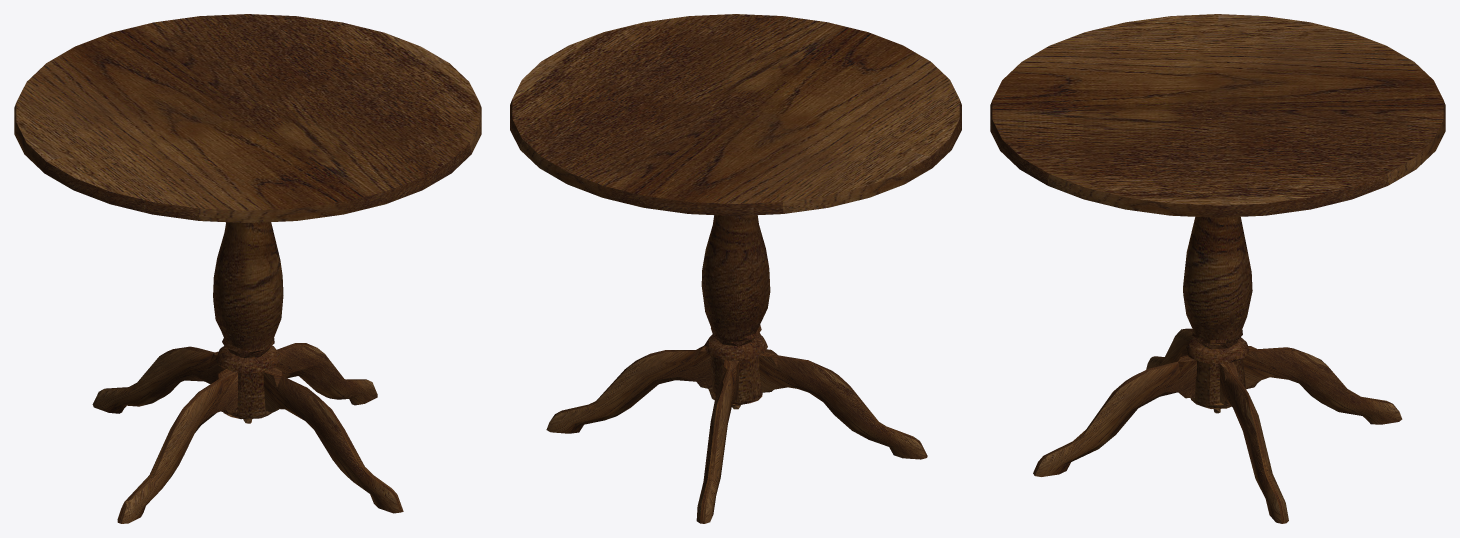
File: Table 2.FBX
3 renders of one model, left to right at view 1: azimuth 30°, elevation 25°; view 2: azimuth 150°, elevation 25°; view 3: azimuth 270°, elevation 25°, orthographic. The views are drawn at different scales.
Parts seen in each view (by area): view 1: Table 2; view 2: Table 2; view 3: Table 2.
Boxes of the visible parts, box(x1,y1,x2,y2) form: Table 2: box(14, 14, 481, 523); Table 2: box(510, 14, 961, 523); Table 2: box(990, 14, 1445, 523).
Size of the model in its own units: 135 by 110 by 135.
2 materials, 2 textured.
